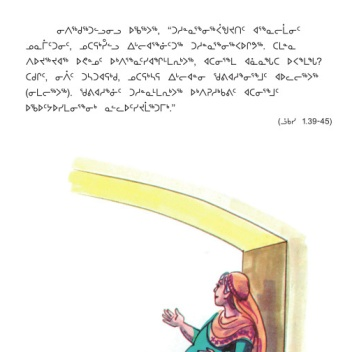inuktitut: (22, 35, 297, 53), (20, 53, 324, 68), (21, 69, 319, 84), (19, 84, 283, 99), (52, 21, 304, 34), (20, 99, 181, 115)
